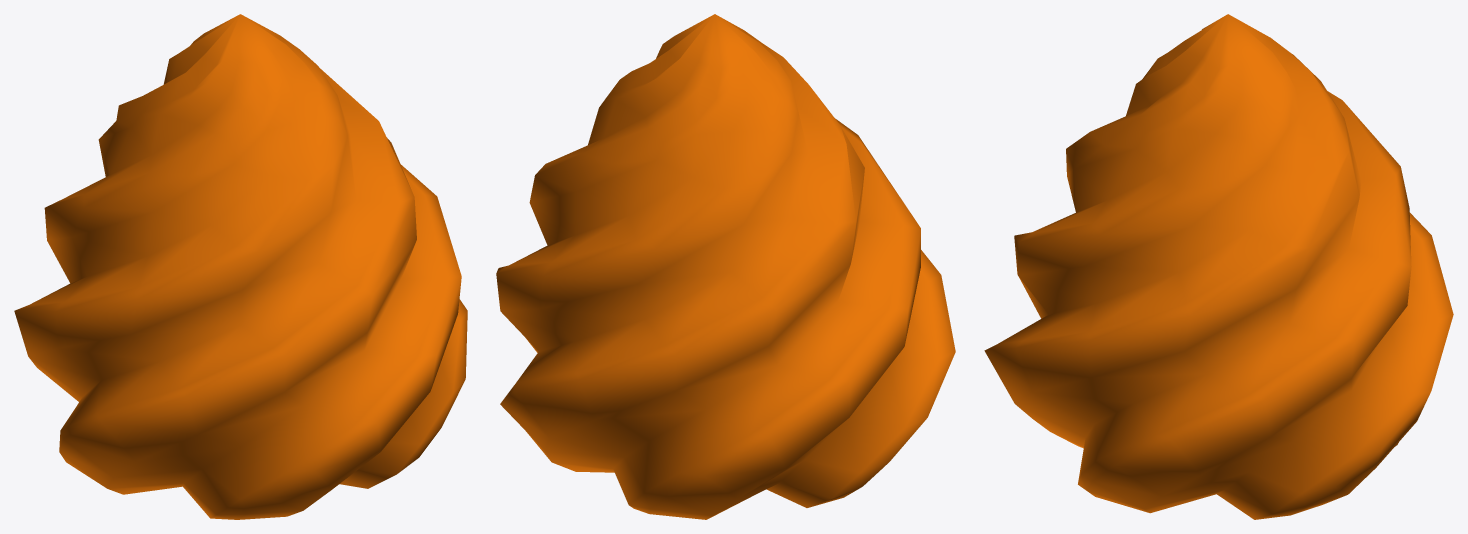
Rendered from Ice Cream Spiral C Brown.fbx.
3 renders of one model, left to right at view 1: azimuth 30°, elevation 25°; view 2: azimuth 150°, elevation 25°; view 3: azimuth 270°, elevation 25°, orthographic.
Visible parts, largest first — view 1: Ice Cream Spiral C Brown; view 2: Ice Cream Spiral C Brown; view 3: Ice Cream Spiral C Brown.
Part boxes in pixels (x1,y1,x2,y2): Ice Cream Spiral C Brown: (14, 14, 467, 519); Ice Cream Spiral C Brown: (496, 14, 955, 519); Ice Cream Spiral C Brown: (984, 14, 1453, 519).
Size of the model in its own units: 0.4215 by 0.4617 by 0.4308.
